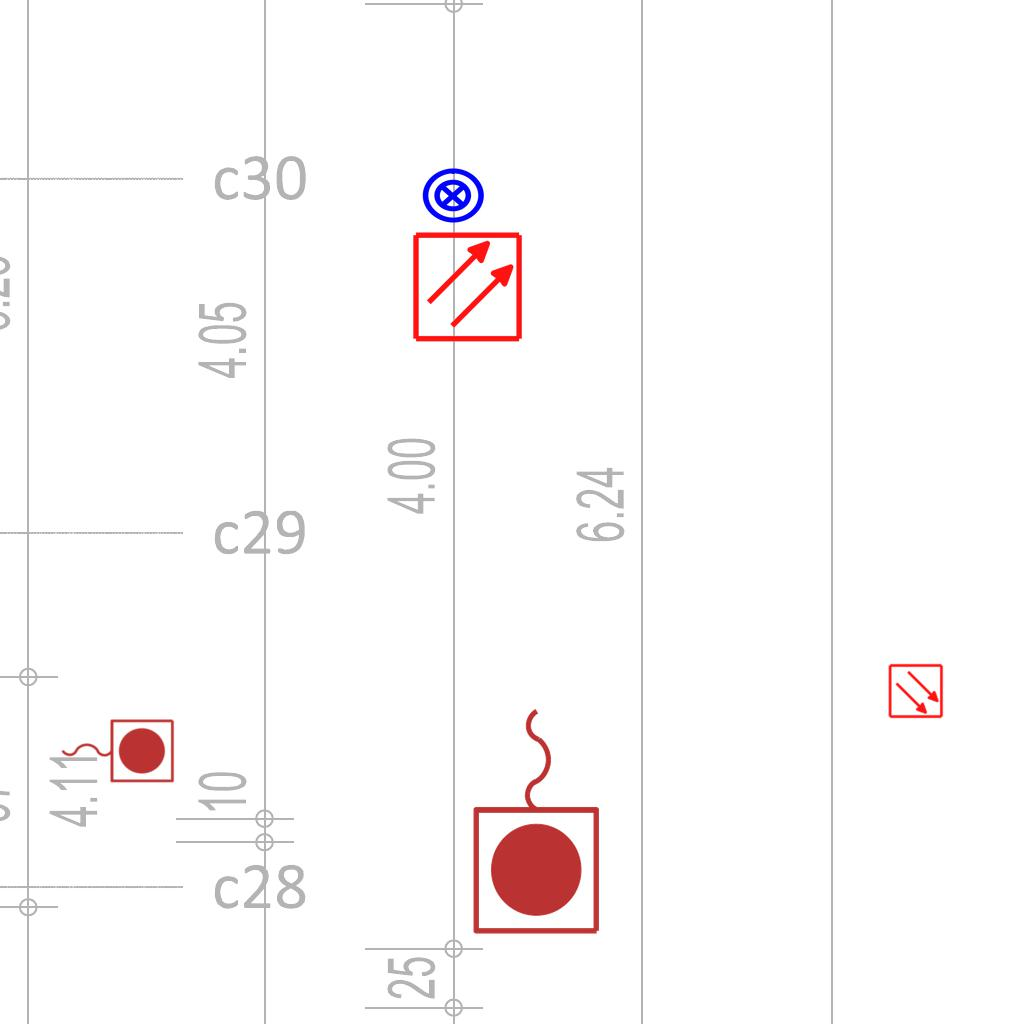RMO_Rauchmelder_optischer: (411, 230, 524, 343), (888, 663, 944, 719)
Taster_beleuchtet: (420, 163, 486, 229)
Zugtaster: (466, 698, 610, 942), (56, 714, 178, 786)
